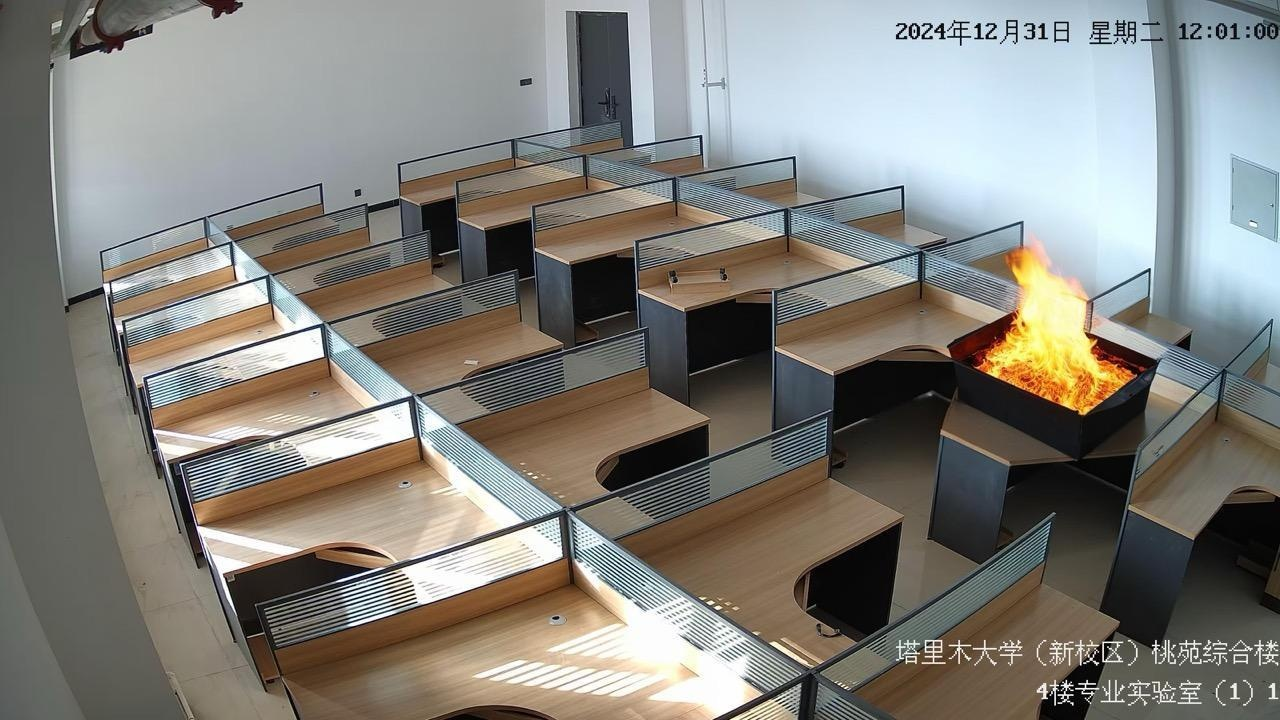fire: (964, 225, 1157, 437)
